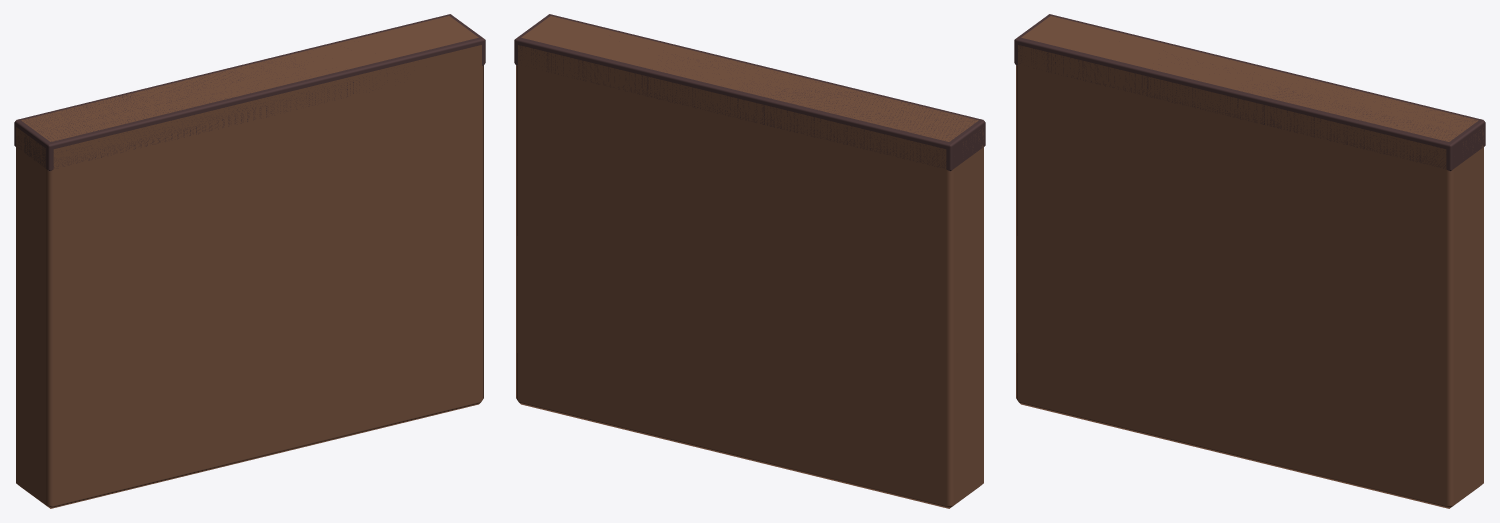
Rendered from ghost-town-stair-side.7ed9ed12.glb.
3 renders of one model, left to right at view 1: azimuth 30°, elevation 25°; view 2: azimuth 150°, elevation 25°; view 3: azimuth 330°, elevation 25°, orthographic.
Visible parts, largest first — view 1: body; view 2: body; view 3: body.
Part boxes in pixels (bbox=[...]): body: bbox=[14, 14, 485, 508]; body: bbox=[514, 14, 985, 508]; body: bbox=[1014, 14, 1485, 508].
Bounding box in the file's own units: 1 × 0.8 × 0.14.
